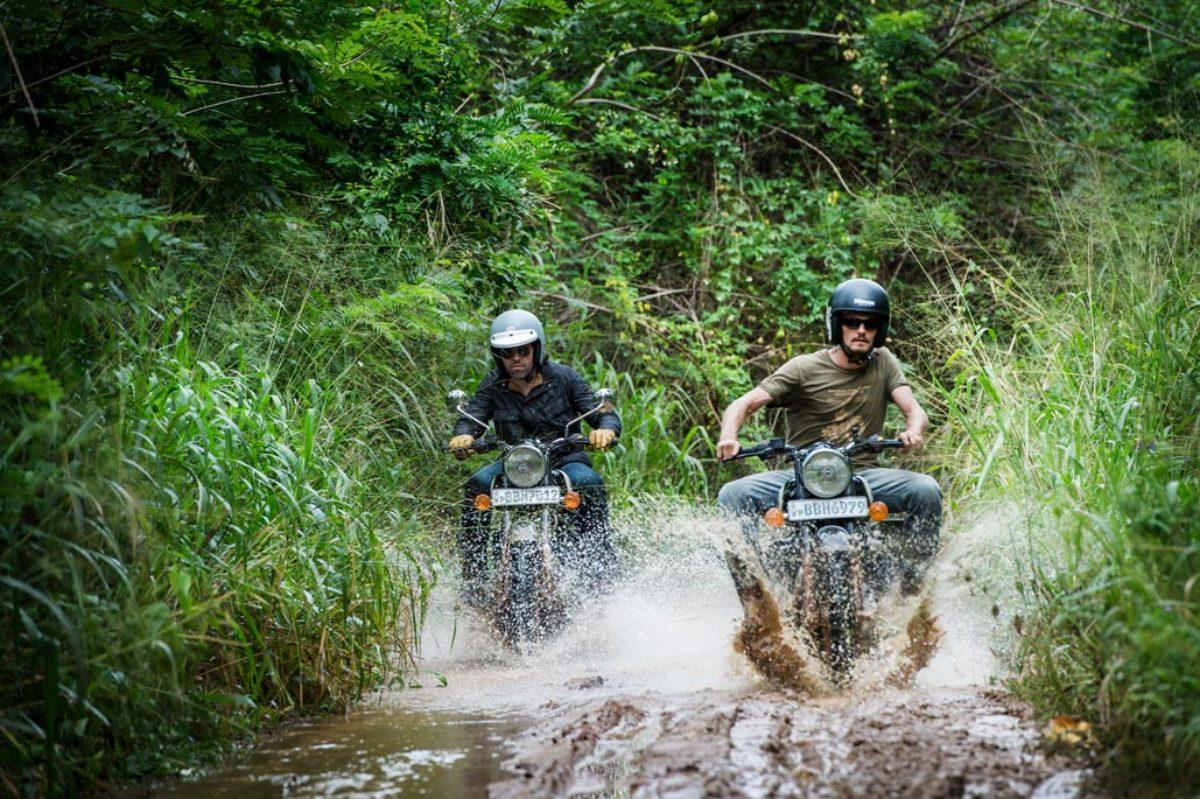motorbike: (437, 390, 617, 654), (716, 436, 892, 687)
